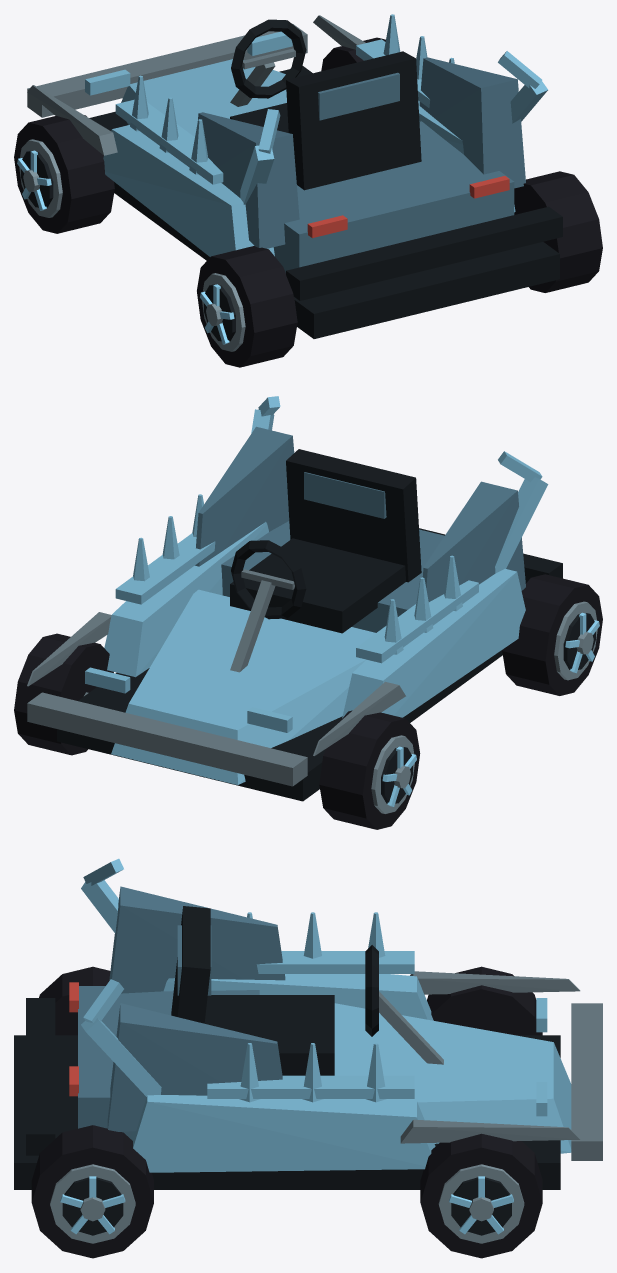
Rendered from kart.glb.
The picture shows the model from 3 angles, top to bottom: view 1: azimuth 30°, elevation 25°; view 2: azimuth 150°, elevation 25°; view 3: azimuth 270°, elevation 25°; orthographic projection. The views are drawn at different scales.
Visible parts, largest first — view 1: chassis, wheel-rear-left, wheel-front-left, wheel-rear-right, wheel-front-right; view 2: chassis, wheel-front-left, wheel-rear-left, wheel-front-right; view 3: chassis, wheel-rear-right, wheel-front-right, wheel-front-left, wheel-rear-left.
Boxes of the visible parts, x1,y1,x2,y2 form: chassis: (27, 14, 562, 338); wheel-rear-left: (197, 246, 297, 367); wheel-front-left: (14, 115, 114, 233); wheel-rear-right: (514, 171, 602, 292); wheel-front-right: (321, 37, 385, 70); chassis: (27, 396, 562, 801); wheel-front-left: (319, 710, 420, 829); wheel-rear-left: (502, 574, 602, 695); wheel-front-right: (14, 633, 113, 755); chassis: (14, 858, 602, 1189); wheel-rear-right: (31, 1125, 153, 1258); wheel-front-right: (420, 1133, 542, 1258); wheel-front-left: (427, 966, 542, 1035); wheel-rear-left: (39, 966, 110, 1035).
Bounding box in the file's own units: 2.34 × 1.38 × 2.99.
